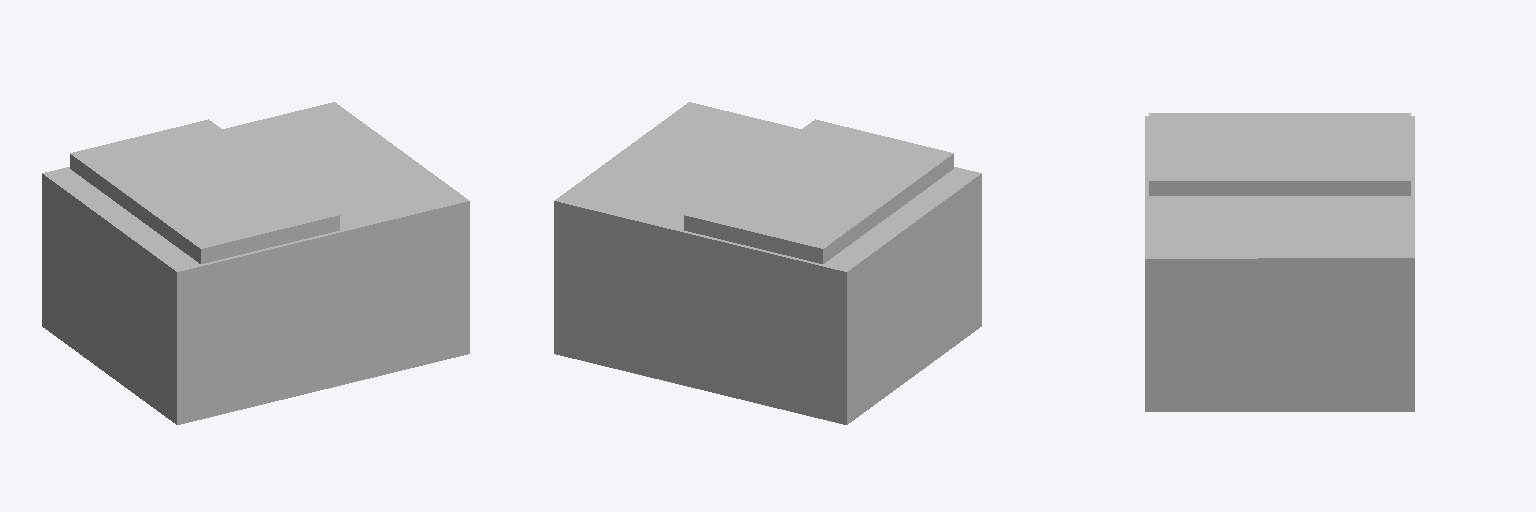
Rendered from rua_cacamba_entulho.obj.
3 renders of one model, left to right at view 1: azimuth 30°, elevation 25°; view 2: azimuth 150°, elevation 25°; view 3: azimuth 270°, elevation 25°, orthographic.
Parts seen in each view (by area): view 1: Block1, entulho; view 2: Block1, entulho; view 3: Block1, entulho.
Boxes of the visible parts, x1=… form: Block1: x1=42, y1=102, x2=469, y2=424; entulho: x1=70, y1=119, x2=339, y2=263; Block1: x1=554, y1=102, x2=981, y2=424; entulho: x1=684, y1=119, x2=953, y2=263; Block1: x1=1145, y1=116, x2=1414, y2=411; entulho: x1=1149, y1=113, x2=1410, y2=195.
Size of the model in its own units: 2.5 by 1.38 by 2.